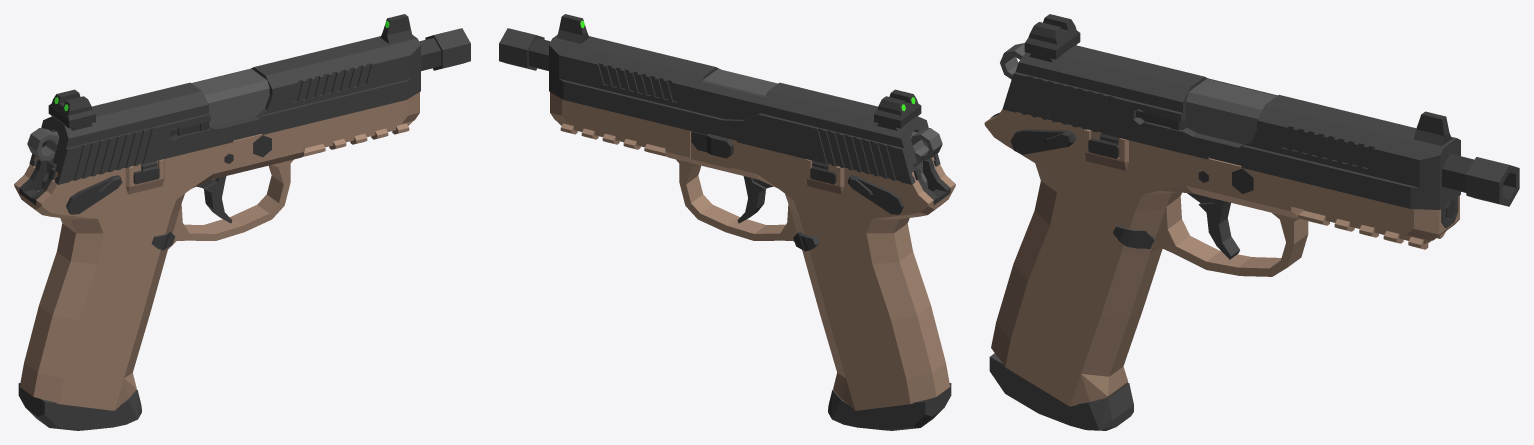
The model's file is low-poly_fnx-45.glb.
3 renders of one model, left to right at view 1: azimuth 30°, elevation 25°; view 2: azimuth 150°, elevation 25°; view 3: azimuth 330°, elevation 25°, orthographic. The views are drawn at different scales.
Visible parts, largest first — view 1: Cube, Cube.008, Cube.001, Cube.016, Cube.002, Cube.011, Cylinder.009, Cube.009, Cylinder.005, Cube.010, Cube.012, Cube.006 (+4 smaller); view 2: Cube, Cube.008, Cube.001, Cube.002, Cube.011, Cylinder.009, Cube.016, Cube.009, Cylinder.005, Cube.010, Cube.020, Cube.012 (+5 smaller); view 3: Cube, Cube.008, Cube.001, Cube.016, Cube.002, Cube.011, Cylinder.009, Cube.009, Cube.006, Cylinder, Cube.012, Cube.014 (+4 smaller).
Part boxes in pixels (x1,y1,x2,y2): Cube: [14, 92, 419, 410]; Cube.008: [29, 35, 420, 184]; Cube.001: [168, 159, 293, 249]; Cube.016: [192, 69, 269, 125]; Cube.002: [18, 383, 141, 430]; Cube.011: [48, 89, 95, 130]; Cylinder.009: [425, 28, 470, 70]; Cube.009: [66, 175, 122, 214]; Cylinder.005: [27, 128, 59, 187]; Cube.010: [19, 158, 56, 205]; Cube.012: [380, 14, 412, 43]; Cube.006: [203, 176, 232, 223]; Cube: [550, 92, 955, 410]; Cube.008: [549, 35, 940, 184]; Cube.001: [676, 159, 797, 241]; Cube.002: [828, 383, 951, 430]; Cube.011: [874, 89, 921, 130]; Cylinder.009: [499, 28, 544, 70]; Cube.016: [702, 69, 777, 97]; Cube.009: [847, 175, 903, 214]; Cylinder.005: [910, 128, 942, 187]; Cube.010: [913, 158, 950, 205]; Cube.020: [691, 131, 733, 158]; Cube.012: [557, 14, 589, 43]; Cube: [984, 109, 1459, 406]; Cube.008: [1002, 45, 1460, 228]; Cube.001: [1150, 196, 1308, 276]; Cube.016: [1186, 79, 1276, 144]; Cube.002: [989, 353, 1133, 430]; Cube.011: [1024, 14, 1080, 62]; Cylinder.009: [1466, 157, 1519, 206]; Cube.009: [1010, 129, 1076, 154]; Cube.006: [1198, 199, 1239, 259]; Cylinder: [1442, 153, 1515, 199]; Cube.012: [1413, 111, 1451, 146]; Cube.014: [1083, 129, 1128, 170].
Size of the model in its own units: 2.67 by 1.96 by 0.3609.
